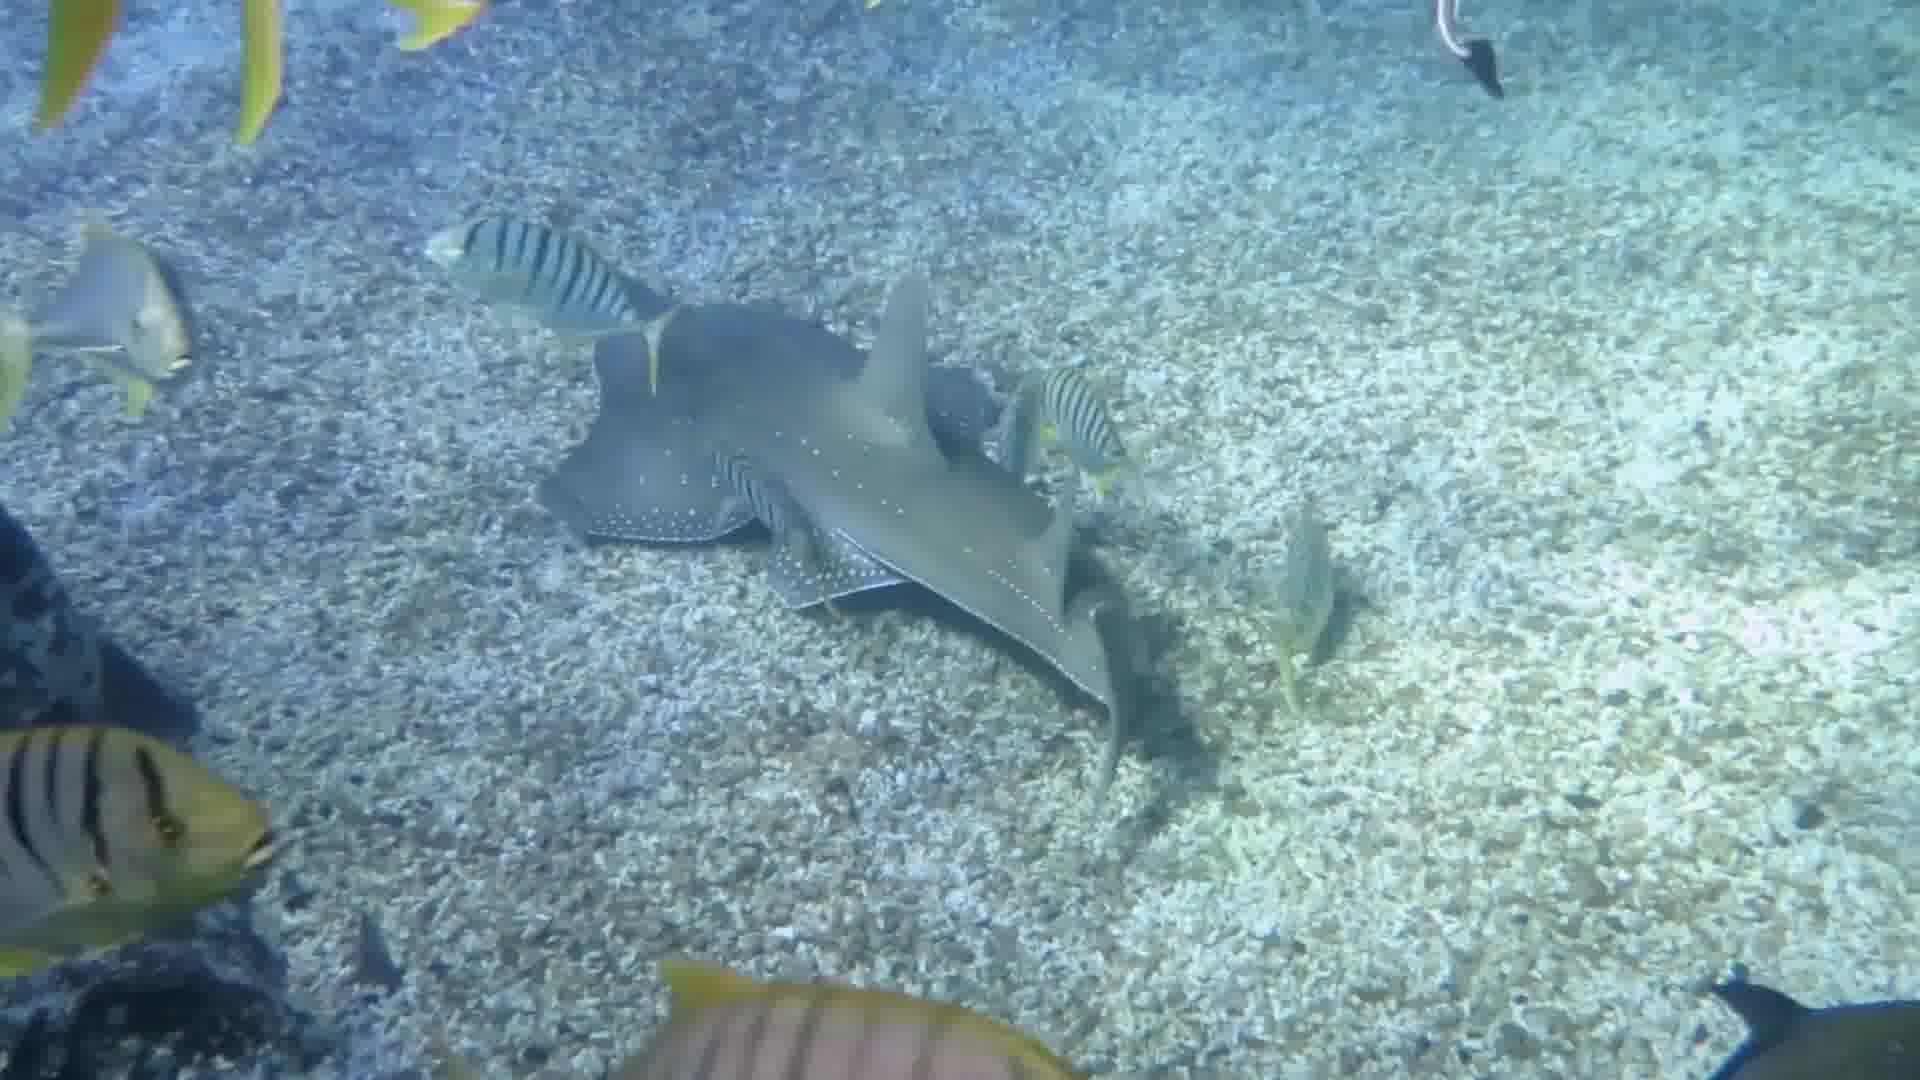Rhychobatus djiddensis: (458, 204, 1341, 831)
